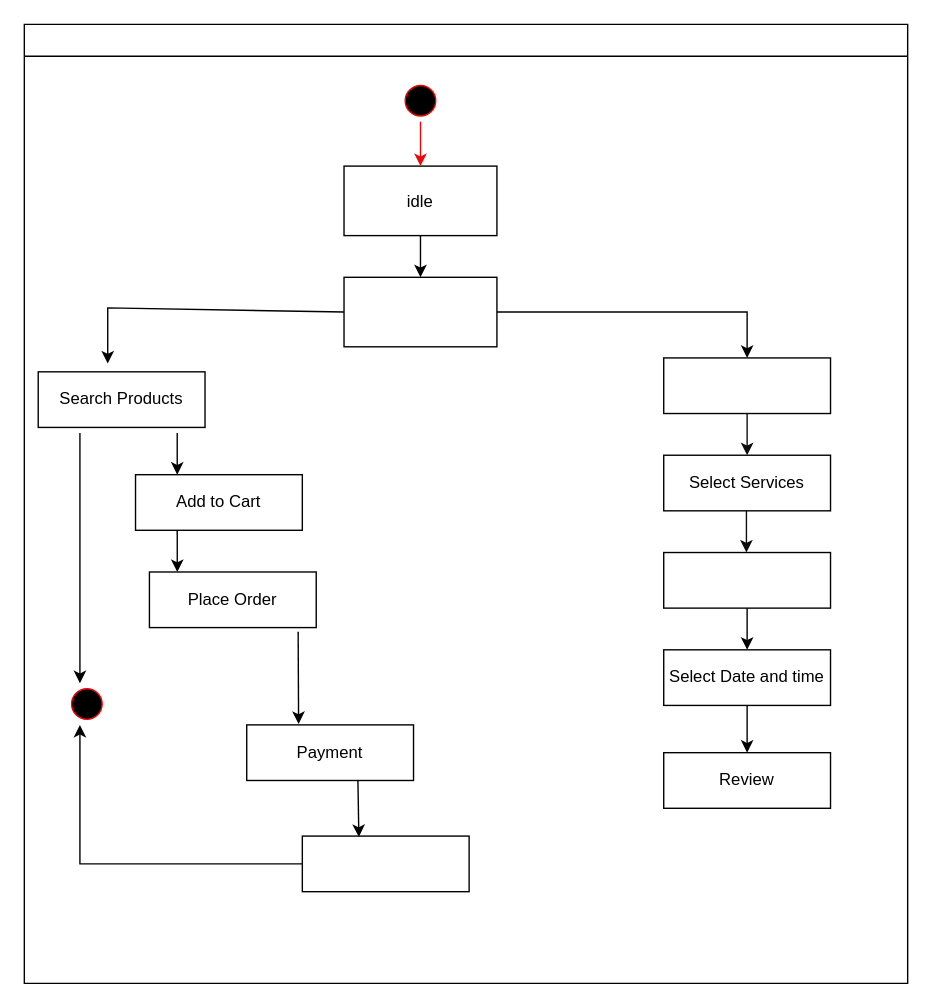
The diagram is 933 pixels wide and 1008 high, and some of its shapes have lost their labels. The shapes that lost their labels are listed below. From the top down, each one's centre as x and y in pixels, then its label:
point (420, 311): Login
point (746, 385): Browse Services
point (746, 579): Book Appointment
point (385, 863): Confirmation
